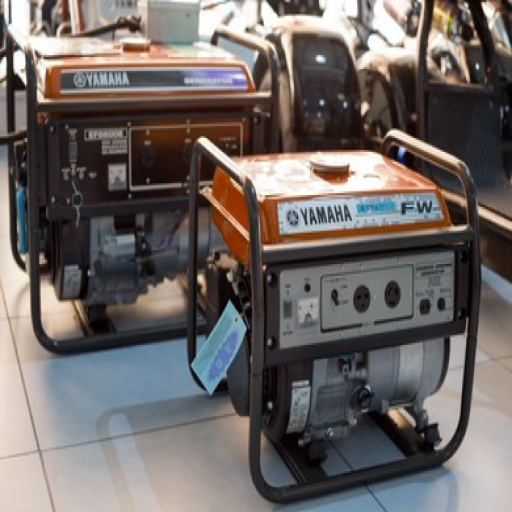portable_generator: (191, 128, 481, 502), (8, 33, 283, 344)
